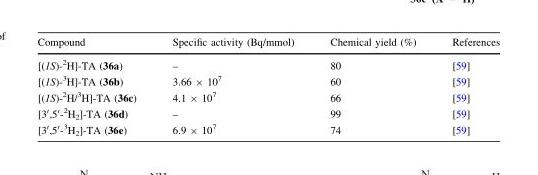table: (36, 36, 499, 136)
table column: (153, 36, 311, 136), (311, 36, 433, 136), (36, 36, 153, 136), (433, 36, 499, 136)
table column header: (36, 36, 499, 52)
table row: (36, 52, 499, 72), (36, 104, 499, 121), (36, 36, 499, 52), (36, 72, 499, 88), (36, 88, 499, 104), (36, 121, 499, 136)
